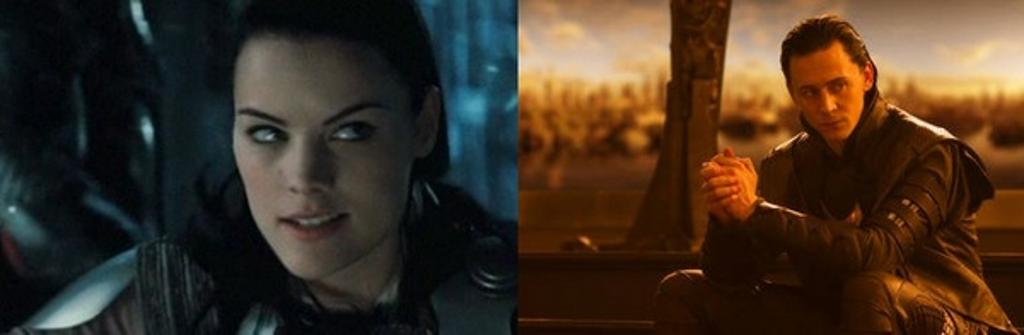face: (236, 44, 410, 278), (800, 48, 864, 134)
